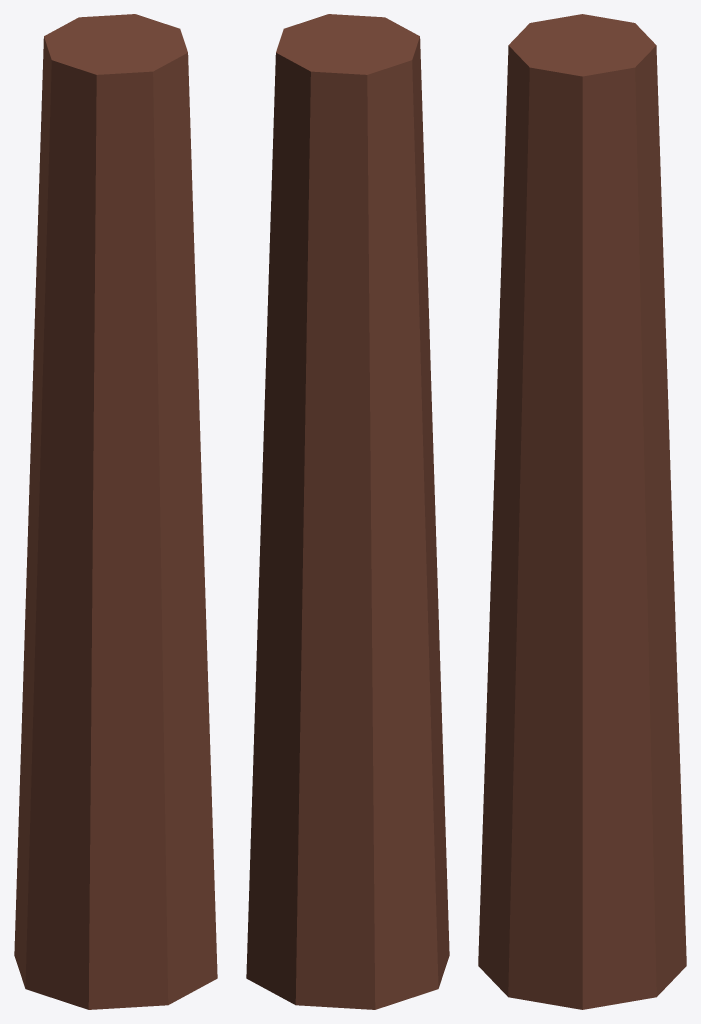
Rendered from Tree.001.glb.
3 renders of one model, left to right at view 1: azimuth 30°, elevation 25°; view 2: azimuth 150°, elevation 25°; view 3: azimuth 270°, elevation 25°, orthographic.
Visible parts, largest first — view 1: Tree.001; view 2: Tree.001; view 3: Tree.001.
Part boxes in pixels (x1,y1,x2,y2): Tree.001: (14,14,217,1009); Tree.001: (246,14,449,1009); Tree.001: (478,14,686,1009).
Bounding box in the file's own units: 2 × 9.74 × 2.
Materials: 1 (1 with a texture image).
